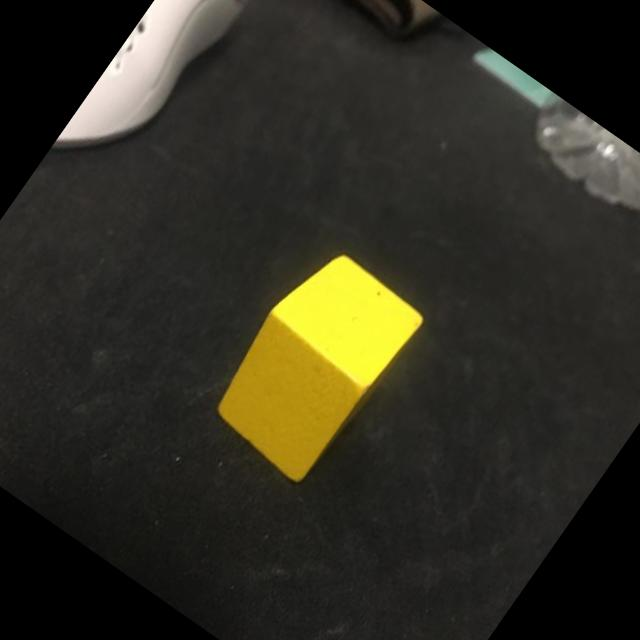yellow: (199, 239, 430, 490)
